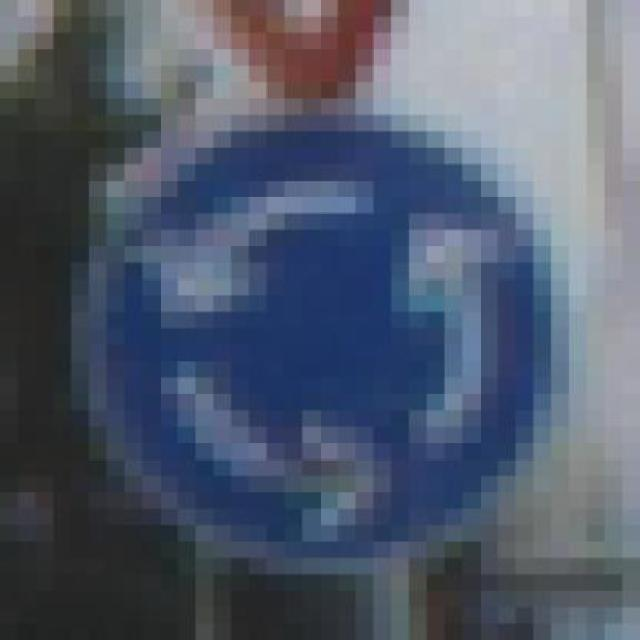Round-About: (71, 97, 569, 589)
